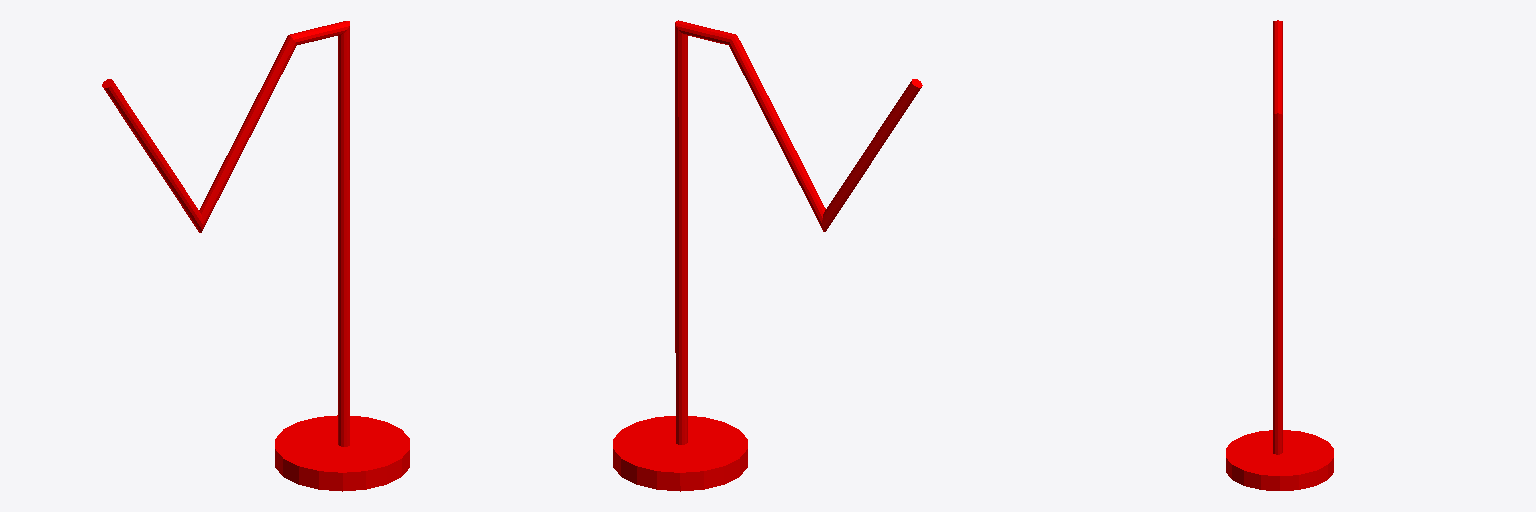
robot.urdf — ring:
<?xml version="0.0" ?>
<robot name="ring">
    <material name="white">
        <color rgba="1 0 0 1"/>
    </material>

    <link name="baseLink">
        <!-- from lego/lego.urdf -->
        <contact>
            <lateral_friction value="1.0"/>
            <rolling_friction value="0.0"/>
            <contact_cfm value="0.0"/>
            <contact_erp value="1.0"/>
        </contact>
        <inertial>
            <origin rpy="0 0 0" xyz="0 0 0"/>
            <mass value="0.01"/>
            <inertia ixx="1" ixy="0" ixz="0" iyy="1" iyz="0" izz="1"/>
        </inertial>
        <visual>
            <origin rpy="1.57 0 0" xyz="0 0 0"/>
            <geometry>
                <!--        radius: 10mm, depth: 14.5mm-->
                <mesh filename="meshes/v.obj" scale="1 1 1"/>
                <!--        <box size="0.002 0.002 0.002"/>-->
            </geometry>
            <material name="white"/>
        </visual>
        <collision>
            <origin rpy="1.57 0 0" xyz="0 0 0"/>
            <geometry>
                <mesh filename="meshes/v_vhacd.obj" scale="1 1 1"/>
                       <!-- <box size="2 2 2"/> -->
            </geometry>
        </collision>
    </link>
</robot>

--- Render facts (derived) ---
Views: 3 orthographic renders of the robot side by side, from view 1: azimuth 30°, elevation 25°; view 2: azimuth 150°, elevation 25°; view 3: azimuth 270°, elevation 25°.
Model ring with 1 links and 0 joints (none), rooted at baseLink, posed every joint at zero.
Links seen in each view (by area): view 1: baseLink; view 2: baseLink; view 3: baseLink.
Boxes of the visible links, box(x1,y1,x2,y2) form: baseLink: box(102, 21, 409, 491); baseLink: box(613, 20, 922, 491); baseLink: box(1226, 20, 1333, 490).
Bounding box of the posed robot: 0.0796 × 0.031 × 0.112 m (x, y, z).
1 mesh visuals loaded from 1 distinct referenced files (1 OBJ).